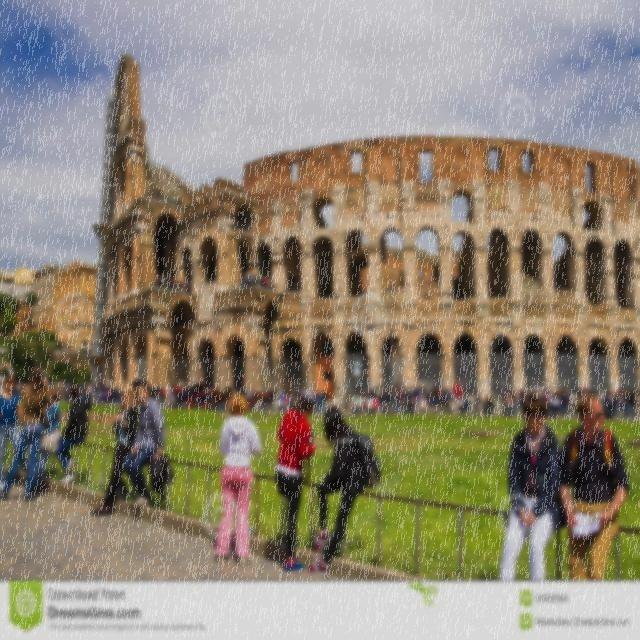pessoa: (553, 382, 633, 632), (302, 398, 385, 578), (498, 392, 568, 582), (214, 390, 264, 566), (312, 378, 522, 418), (274, 390, 318, 574), (1, 366, 55, 503), (90, 382, 138, 516), (121, 380, 167, 508), (522, 377, 640, 423), (54, 384, 92, 484), (0, 374, 31, 491), (31, 389, 61, 494), (237, 385, 302, 414), (168, 384, 236, 411), (77, 379, 121, 404), (152, 272, 194, 294), (51, 344, 96, 362), (238, 270, 272, 292), (0, 357, 15, 396), (149, 383, 164, 405), (46, 377, 63, 389), (160, 384, 168, 408), (16, 378, 27, 394), (62, 380, 68, 402), (66, 382, 71, 402), (211, 274, 218, 284)
